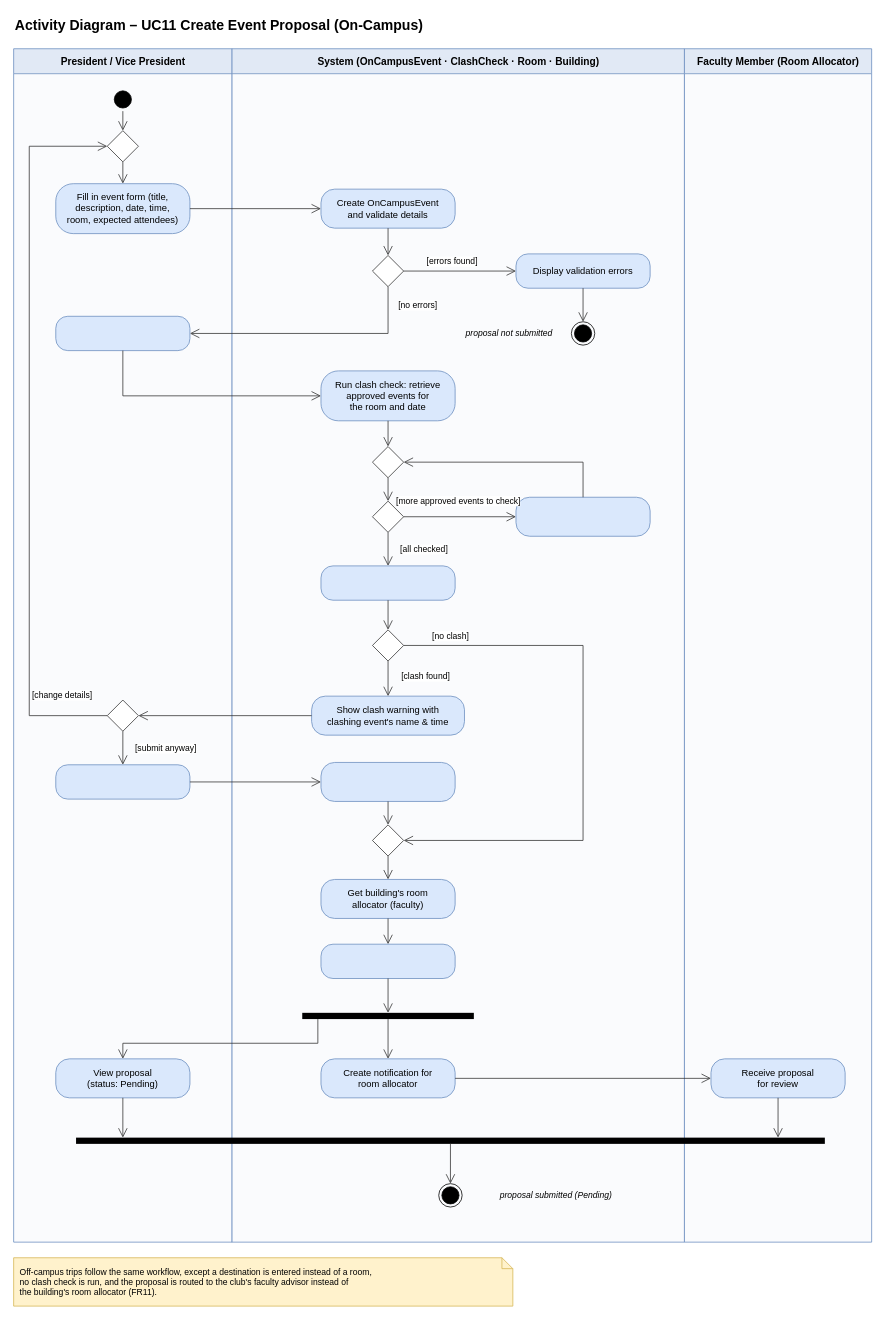
The diagram is 885 pixels wide and 1320 high, and some of its shapes have lost their labels. The centre of each missing label's shape, as x and y in pixels:
"Check overlap with next approved event" belongs at point (582, 516).
"Choose to submit anyway" belongs at point (122, 781).
"Determine clash result" belongs at point (387, 582).
"Override check and flag clash on proposal" belongs at point (387, 781).
"Set status to PENDING" belongs at point (387, 961).
"Submit proposal" belongs at point (122, 333).
